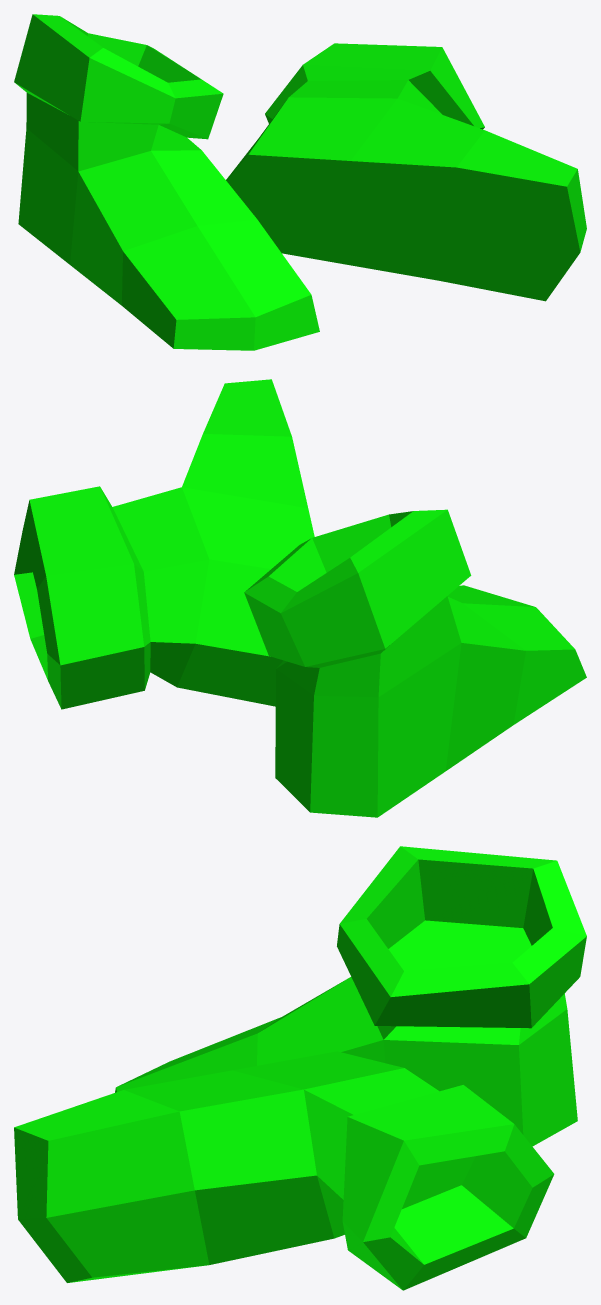
Rendered from SM_Armor_Shoes_A_Placed_Fantasy.fbx.
3 views of the same model, one above another, from view 1: azimuth 30°, elevation 25°; view 2: azimuth 150°, elevation 25°; view 3: azimuth 270°, elevation 25° (orthographic). The views are drawn at different scales.
Visible parts, largest first — view 1: armor-shoes-a-placed-fantasy; view 2: armor-shoes-a-placed-fantasy; view 3: armor-shoes-a-placed-fantasy.
Part boxes in pixels (x1,y1,x2,y2): armor-shoes-a-placed-fantasy: (14, 14, 586, 350); armor-shoes-a-placed-fantasy: (14, 379, 586, 817); armor-shoes-a-placed-fantasy: (14, 846, 586, 1290).
Bounding box in the file's own units: 0.2999 × 0.1566 × 0.318.
